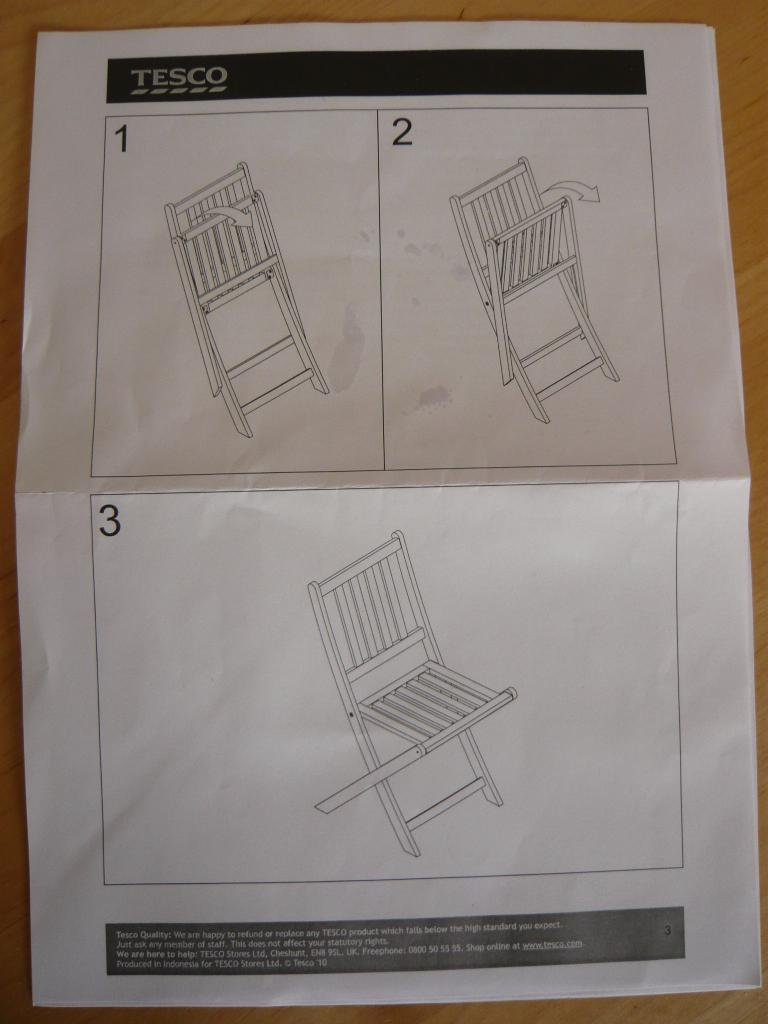Chair: (314, 530, 531, 890), (163, 161, 331, 442), (452, 154, 620, 428)
